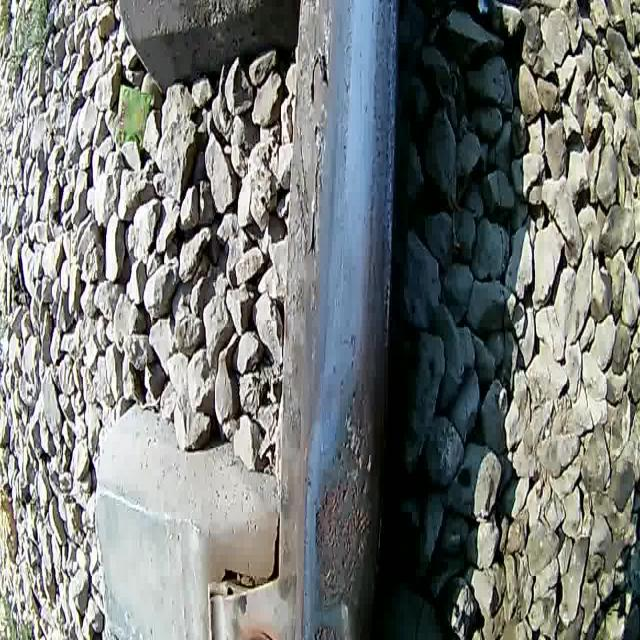Spallings: (309, 475, 377, 598), (332, 379, 376, 470)
Squats: (304, 366, 377, 612), (308, 620, 346, 640)
